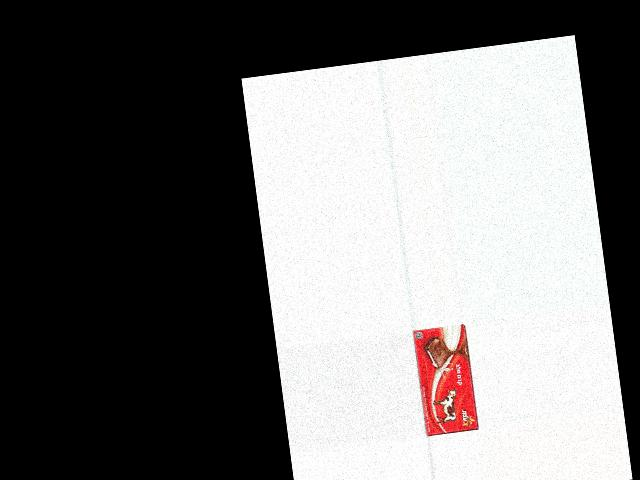chocolate: (412, 324, 479, 438)
